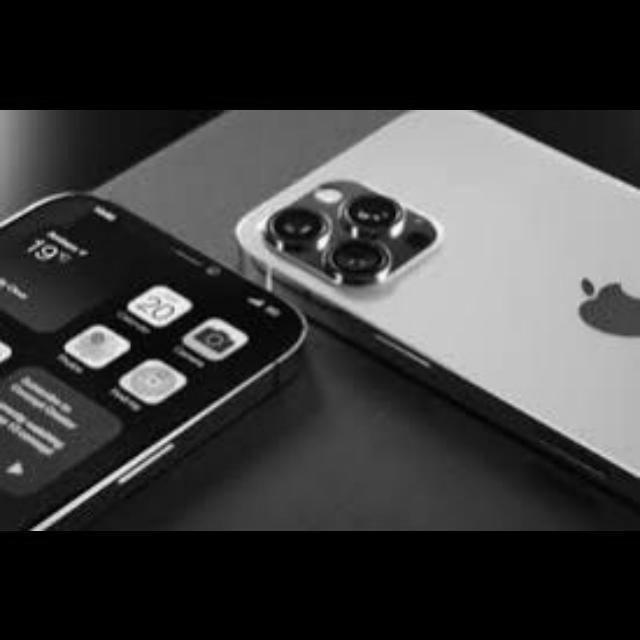fake: (192, 116, 640, 522), (0, 146, 304, 532)
